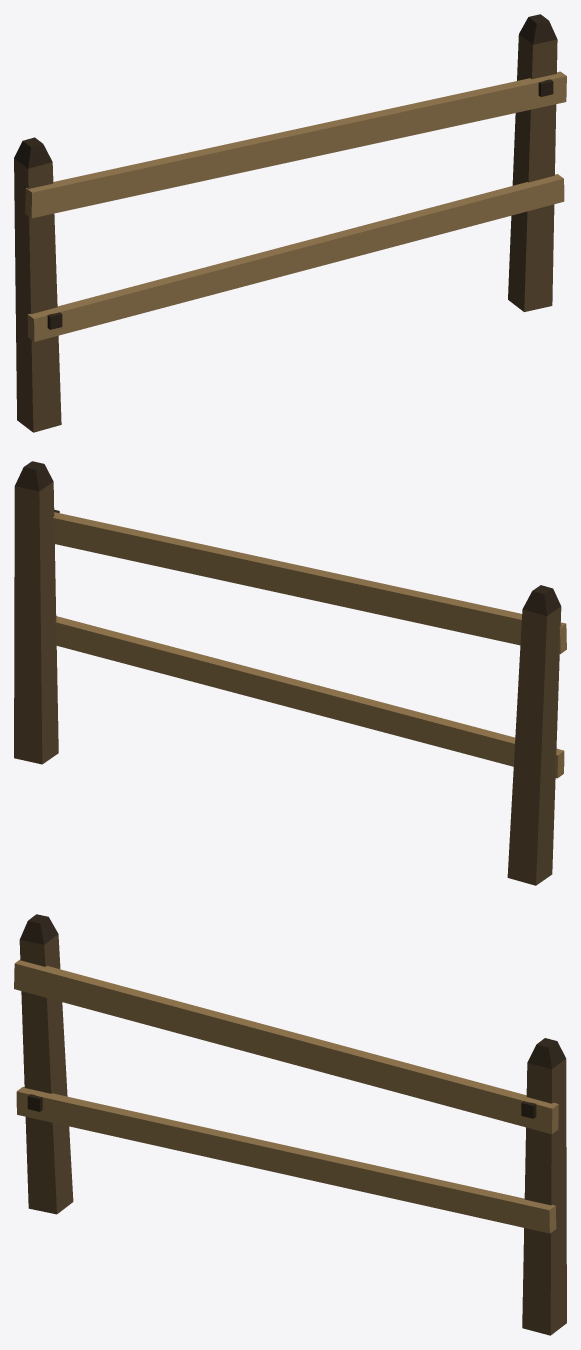
Rendered from fence_wood.glb.
3 views of the same model, one above another, from view 1: azimuth 30°, elevation 25°; view 2: azimuth 150°, elevation 25°; view 3: azimuth 330°, elevation 25° (orthographic).
Parts seen in each view (by area): view 1: fence_wood; view 2: fence_wood; view 3: fence_wood.
Part boxes in pixels (x1=…): fence_wood: x1=14, y1=14, x2=566, y2=432; fence_wood: x1=14, y1=461, x2=566, y2=885; fence_wood: x1=14, y1=914, x2=566, y2=1335.
Bounding box in the file's own units: 2.18 × 1.11 × 0.1775.
